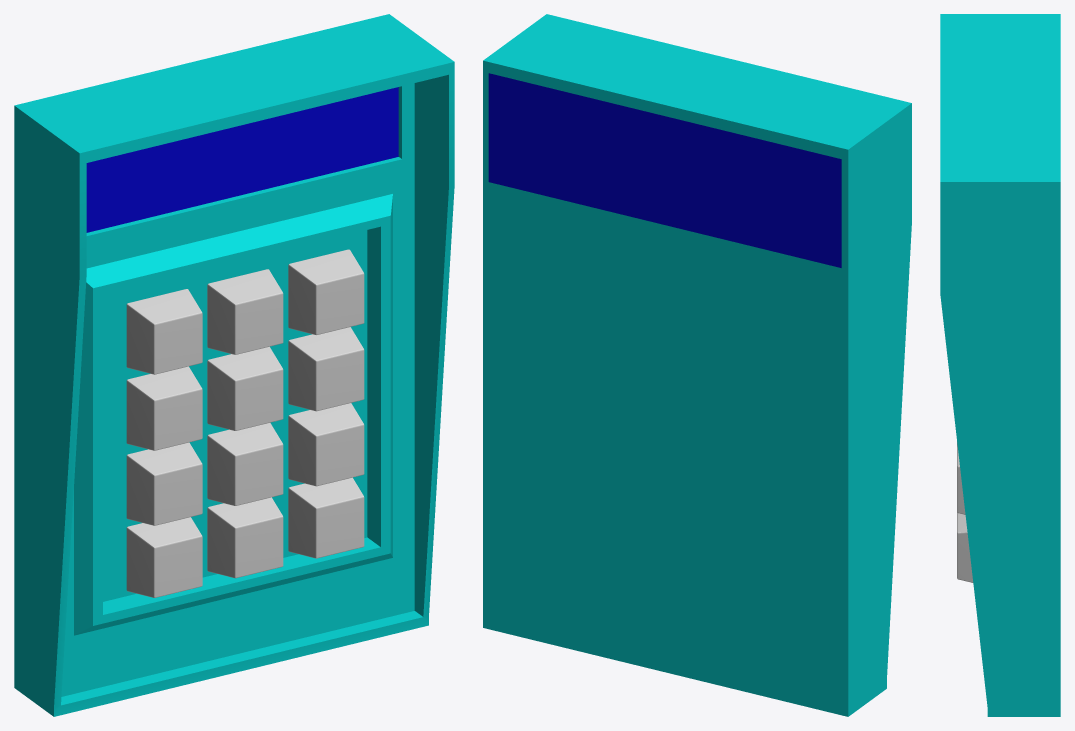
File: codepad.fbx
3 renders of one model, left to right at view 1: azimuth 30°, elevation 25°; view 2: azimuth 150°, elevation 25°; view 3: azimuth 270°, elevation 25°, orthographic. The views are drawn at different scales.
Visible parts, largest first — view 1: codepad, one, three, two, six, five, four, seven, nine, eight, zero, enter (+1 smaller); view 2: codepad; view 3: codepad, enter, nine.
Boxes of the visible parts, x1,y1,x2,y2 form: codepad: (14,14,454,716); one: (126,289,202,374); three: (288,249,364,335); two: (207,269,283,354); six: (288,327,364,411); five: (207,346,283,430); four: (126,366,202,450); seven: (126,442,202,525); nine: (288,403,364,486); eight: (207,423,283,505); zero: (207,497,283,578); enter: (288,477,364,558); codepad: (483,14,911,716); codepad: (940,14,1060,716); enter: (957,512,973,582); nine: (957,446,965,514).
Bounding box in the file's own units: 2.07 × 3.07 × 0.6257.
